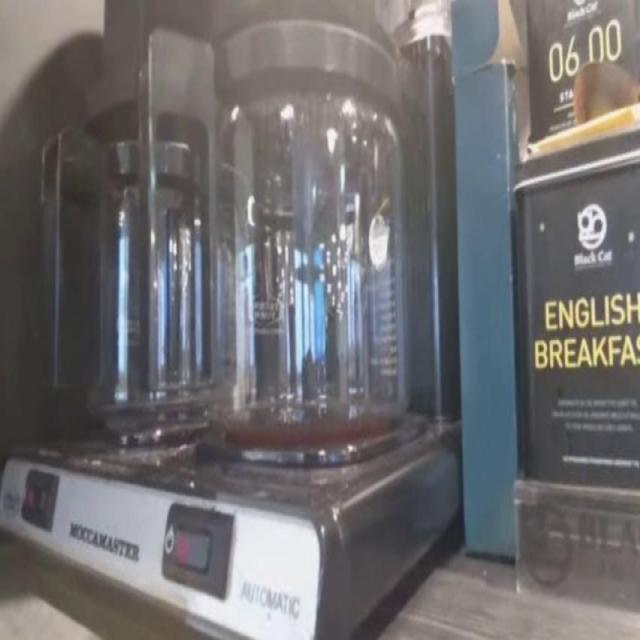nocoffee: (206, 114, 409, 432), (88, 187, 194, 430)
